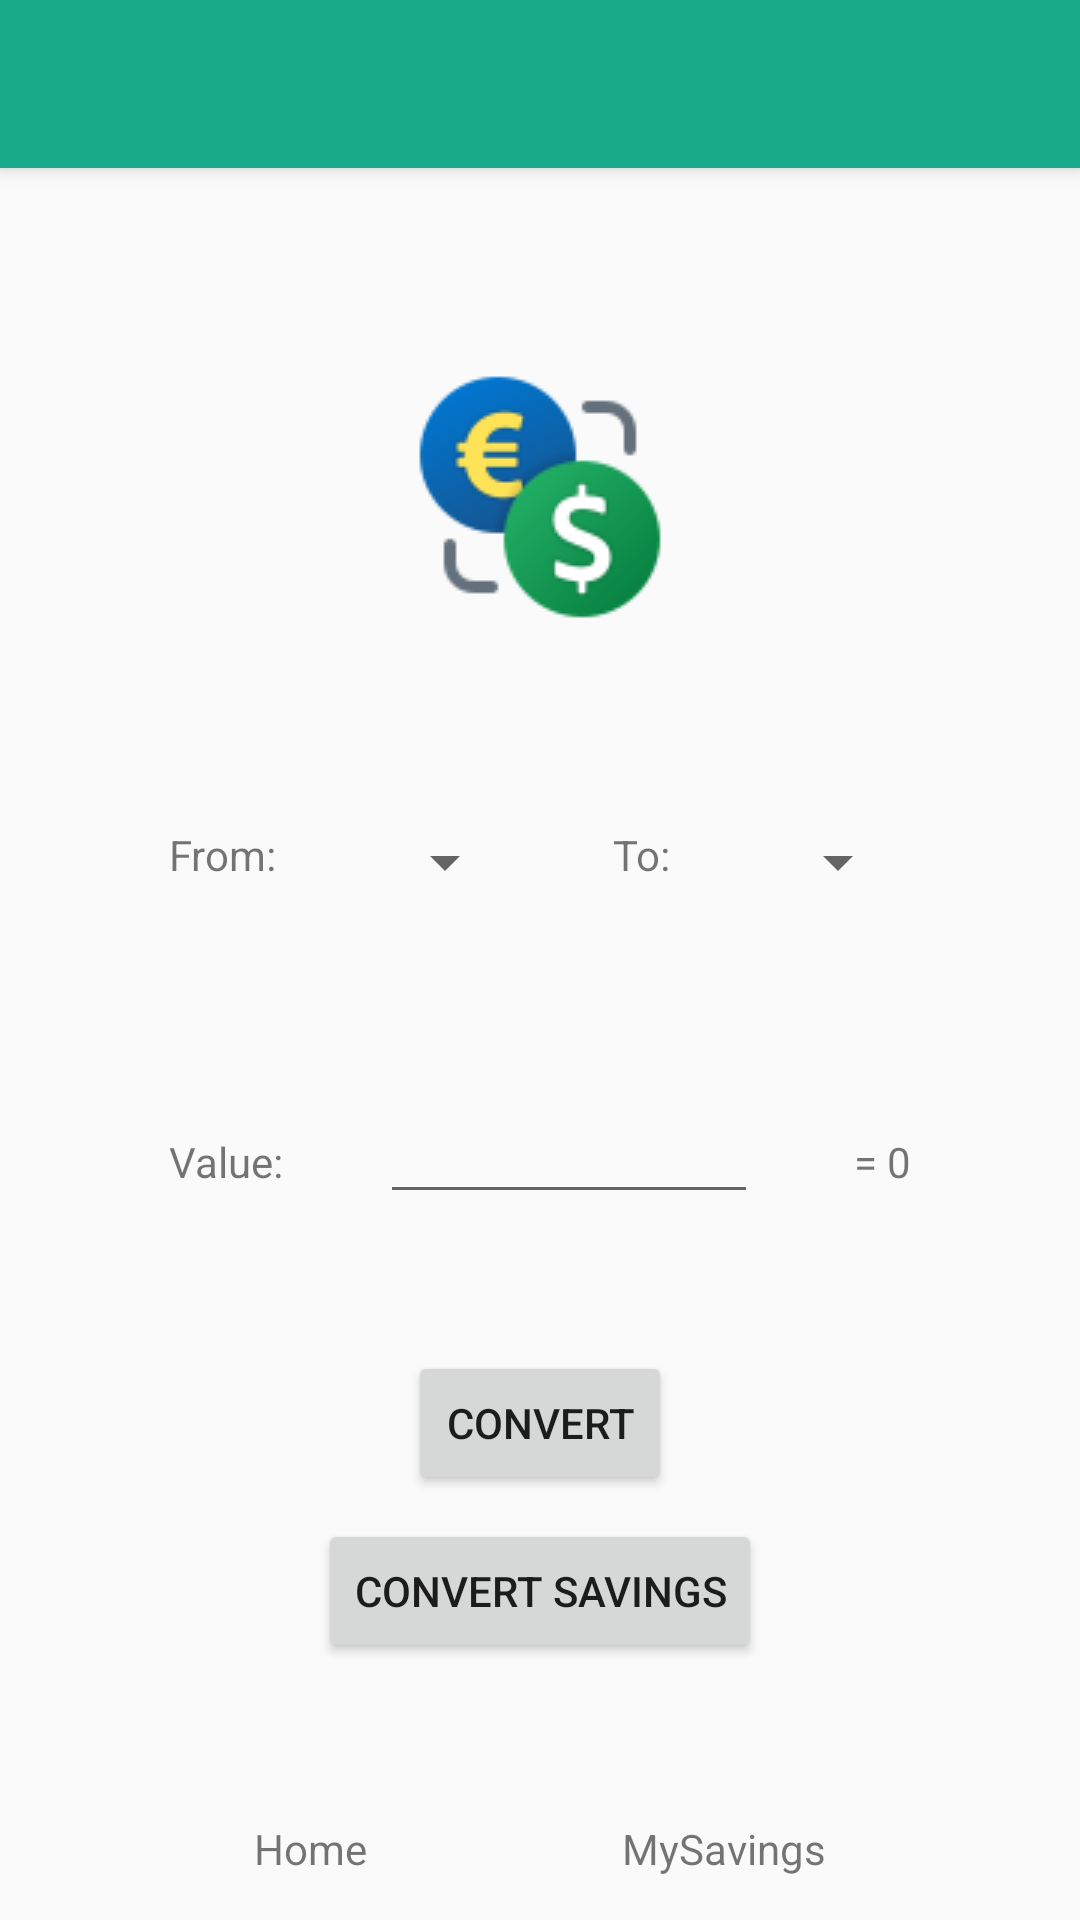

Icon bounding boxes for this 1080 x 1920 phone screenshot, format (x1, y1, x2, y2):
currencyexchange: (419, 376, 661, 618)
